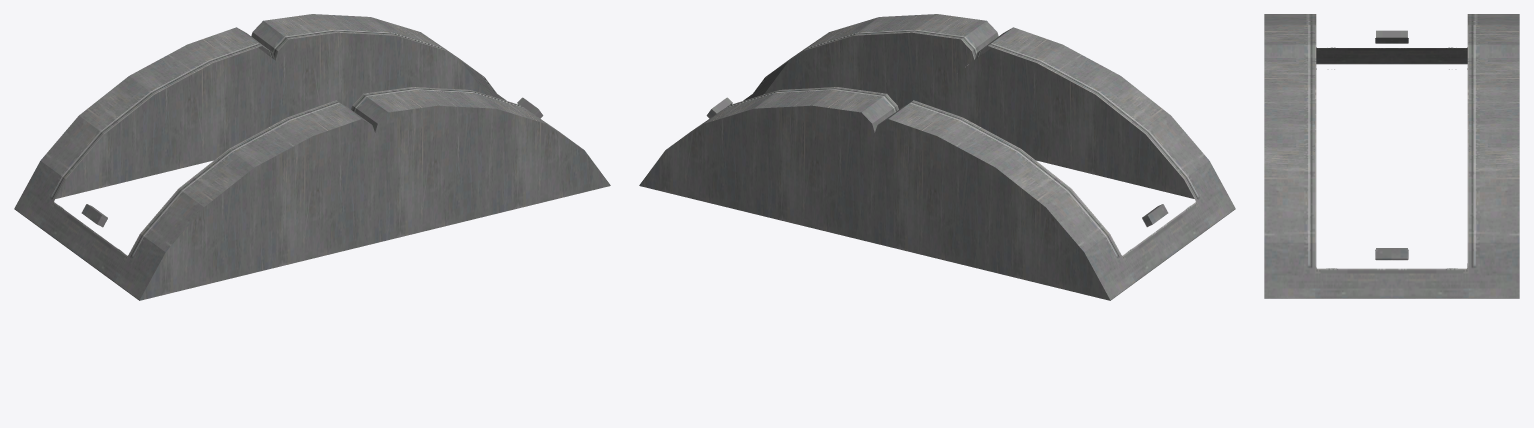
Rendered from frn_all_mdrn_chest_s01_l0.fbx.
3 renders of one model, left to right at view 1: azimuth 30°, elevation 25°; view 2: azimuth 150°, elevation 25°; view 3: azimuth 270°, elevation 25°, orthographic.
Parts seen in each view (by area): view 1: mesh_node; view 2: mesh_node; view 3: mesh_node.
Boxes of the visible parts, bbox=[...] form: mesh_node: bbox=[14, 14, 610, 300]; mesh_node: bbox=[639, 14, 1235, 300]; mesh_node: bbox=[1264, 14, 1519, 298].
Size of the model in its own units: 1.74 by 0.8481 by 0.8.
